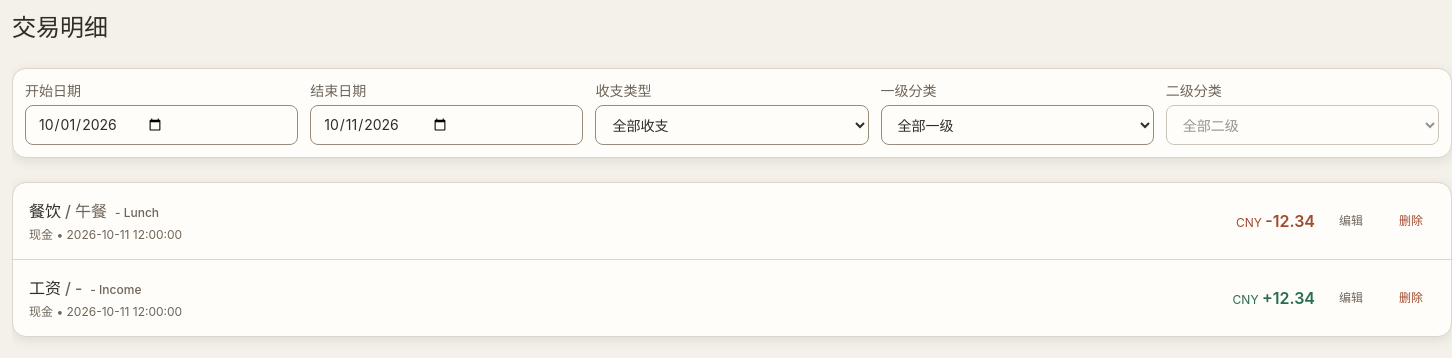
Scenario: real redesign components with controlled API state › record filters retain expense/income, primary and secondary constraints and exclude transfers
Select "收入" in the dropdown labelled "收支类型" at [732, 125], box [595, 105, 869, 145]
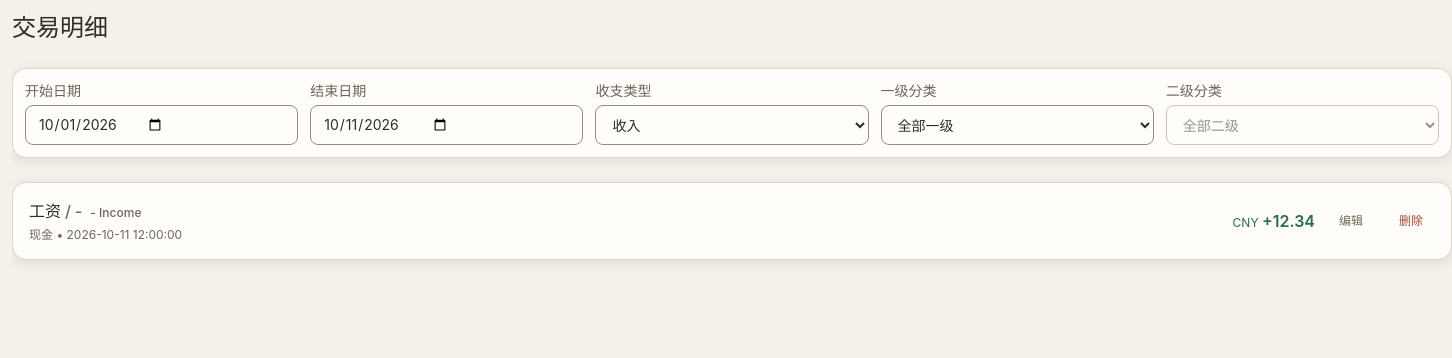
Expected: the text "- Income" is shown, [90, 205, 141, 220]
Expected: the text "Lunch" is gone
